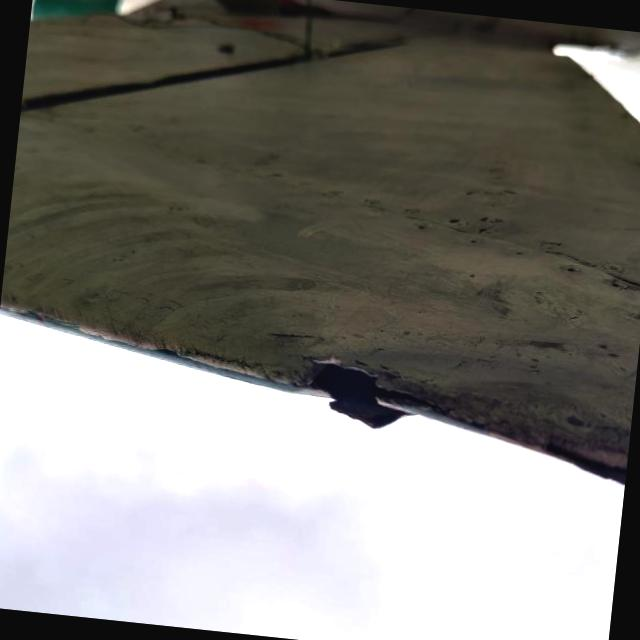crack: (278, 339, 440, 438)
